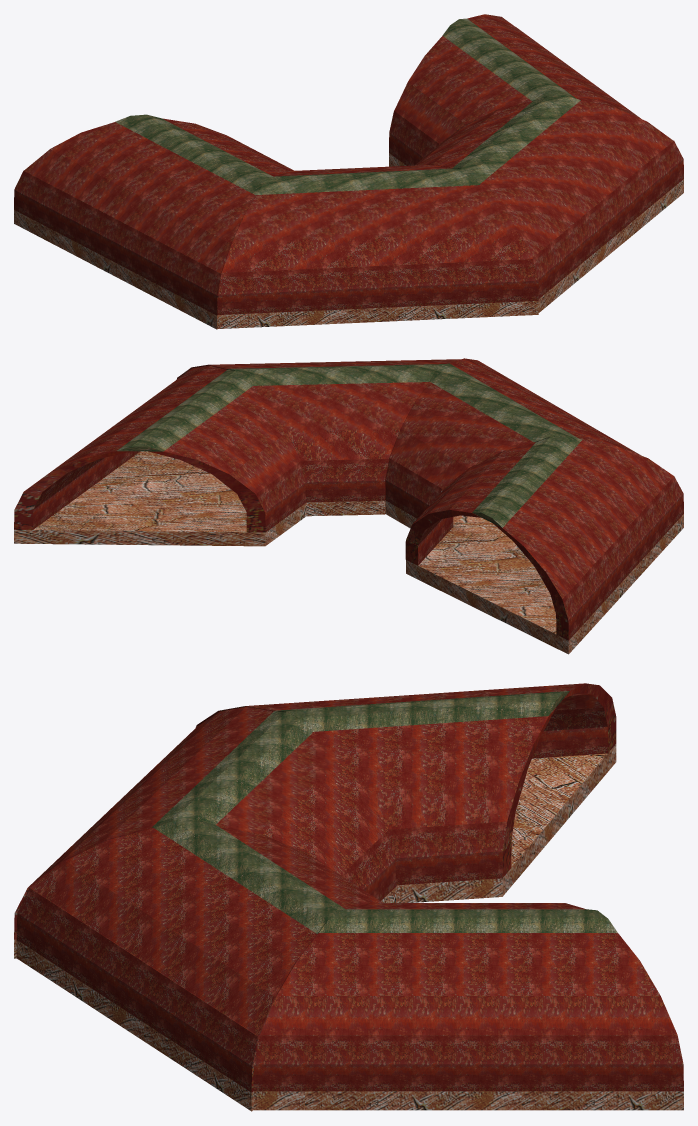
The model's file is domecir.glb.
The picture shows the model from 3 angles, top to bottom: view 1: azimuth 30°, elevation 25°; view 2: azimuth 150°, elevation 25°; view 3: azimuth 270°, elevation 25°; orthographic projection. The views are drawn at different scales.
Parts seen in each view (by area): view 1: domecir; view 2: domecir; view 3: domecir.
Part boxes in pixels (bbox=[...]): domecir: bbox=[14, 14, 683, 329]; domecir: bbox=[14, 358, 683, 654]; domecir: bbox=[14, 683, 683, 1111].
Size of the model in its own units: 61.09 by 10.81 by 49.5.
Materials: 3 (3 with a texture image).
